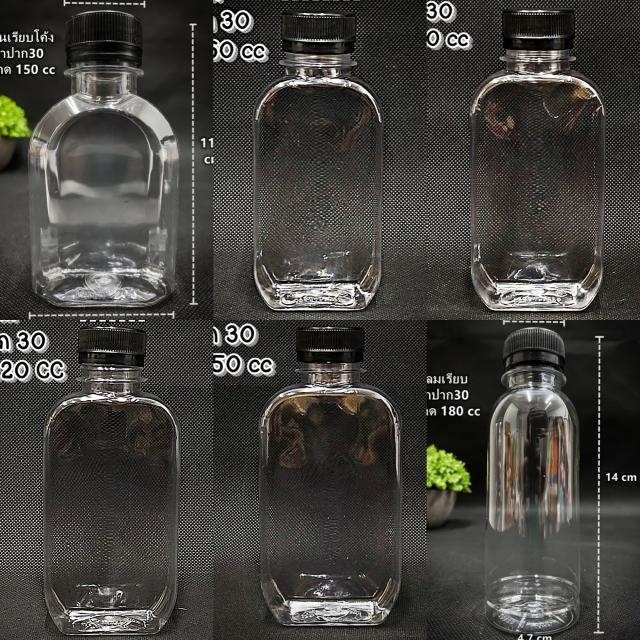plastik: (29, 10, 179, 306), (260, 327, 401, 625), (44, 328, 179, 634), (470, 9, 605, 311), (254, 11, 382, 310), (485, 328, 580, 634)
